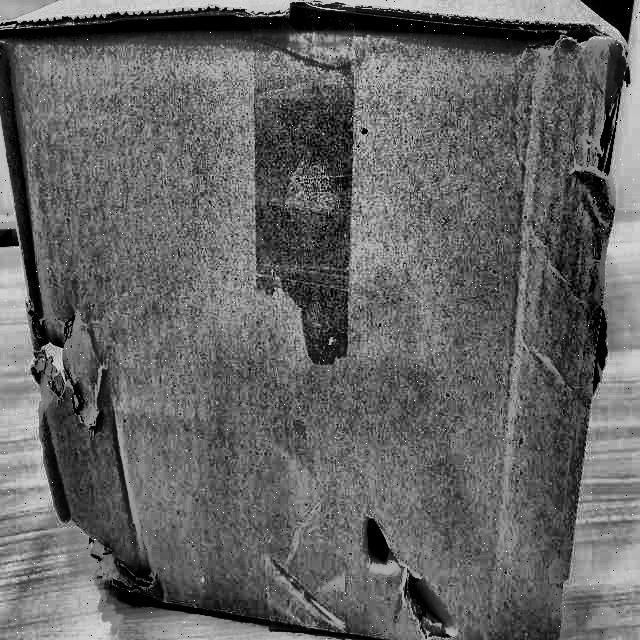box: (1, 0, 635, 639)
hole: (25, 286, 121, 404), (52, 490, 147, 606), (402, 567, 444, 637), (360, 513, 398, 571)
